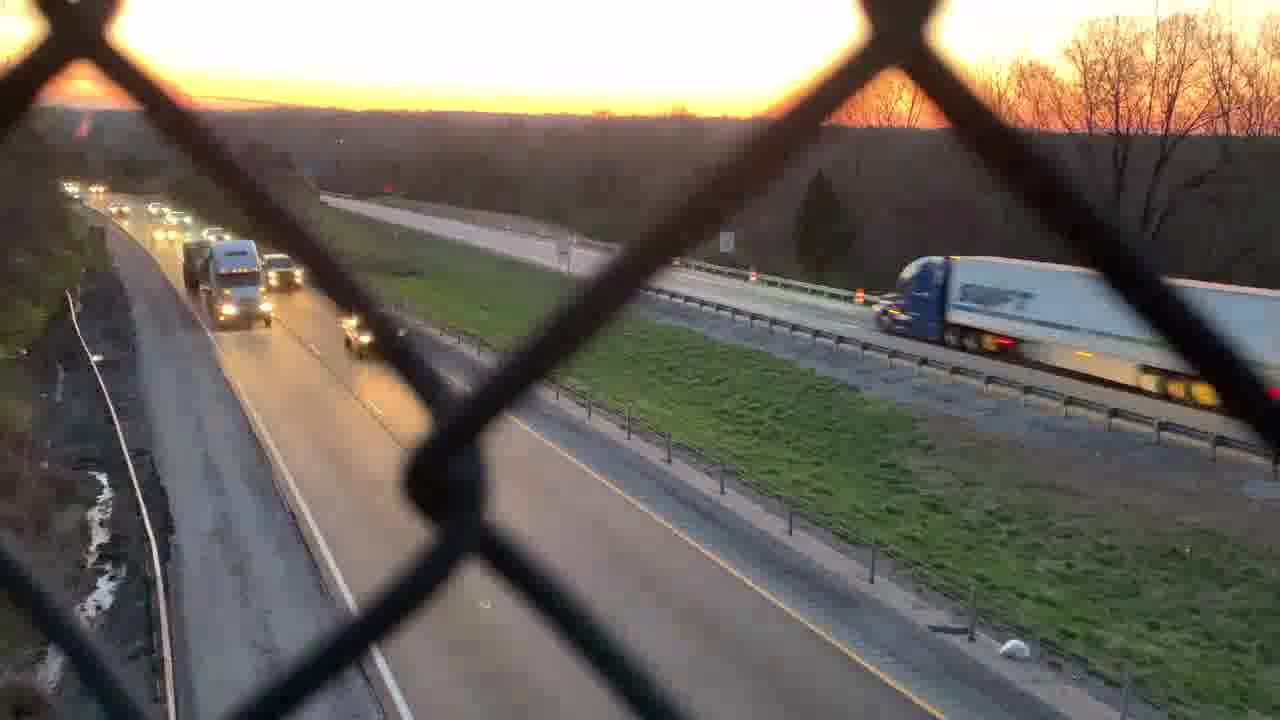heavyTruck: (871, 247, 1280, 408), (186, 238, 277, 332)
